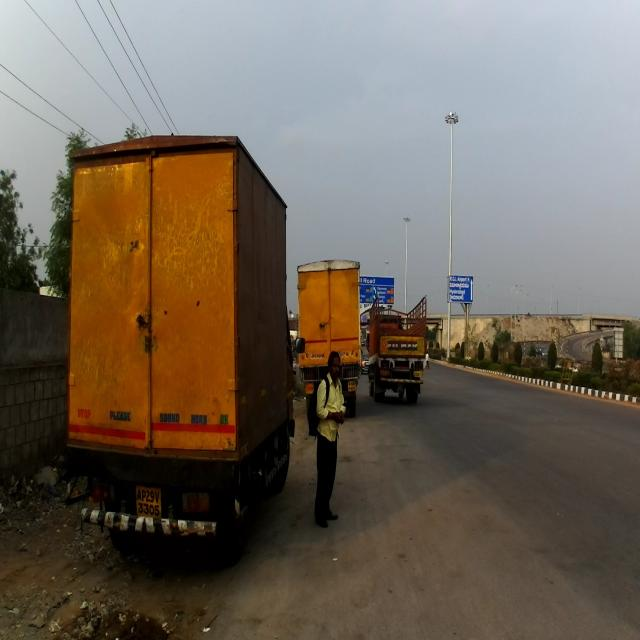truck: (62, 133, 307, 571), (296, 257, 362, 418), (366, 292, 426, 403)
